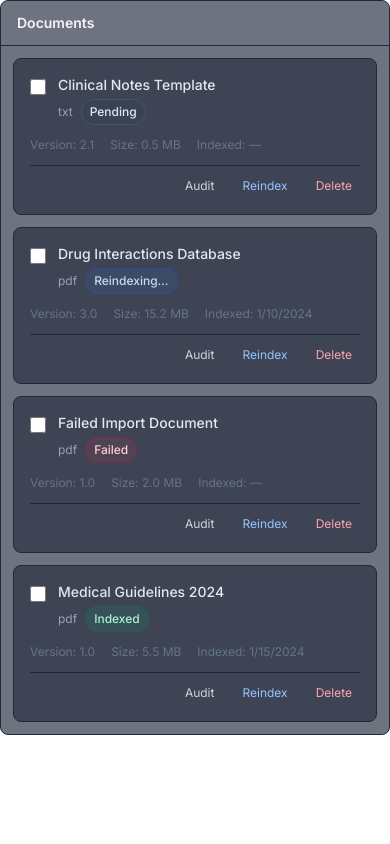
DocumentTable › selection › shows correct count in delete button
This screenshot has width=390, height=844.
# Select two documents (use first checkbox for each)
Click the checkbox named "Select Medical Guidelines 2024": (38, 594) [30, 586, 46, 602]
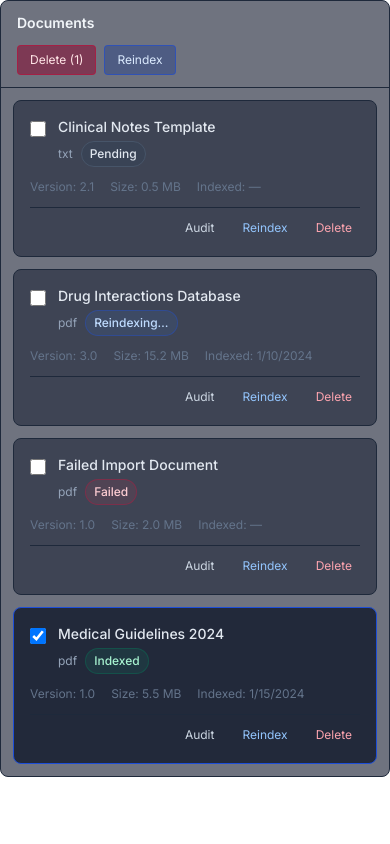
Click the checkbox named "Select Clinical Notes Template": (38, 129) [30, 121, 46, 137]
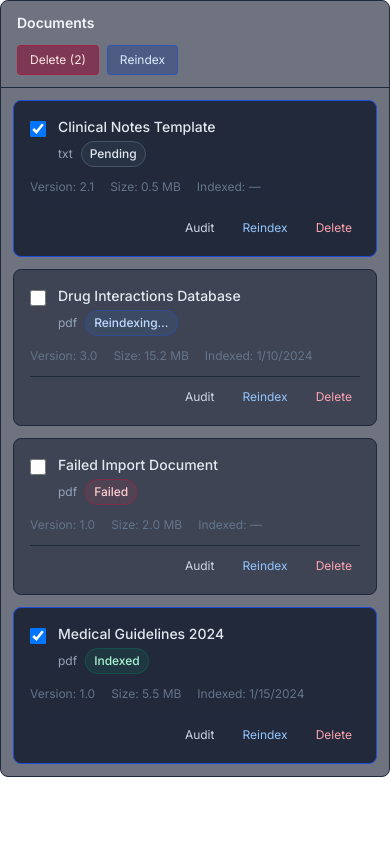
Expected: the button "Delete (2)" is shown, [17, 45, 99, 75]
